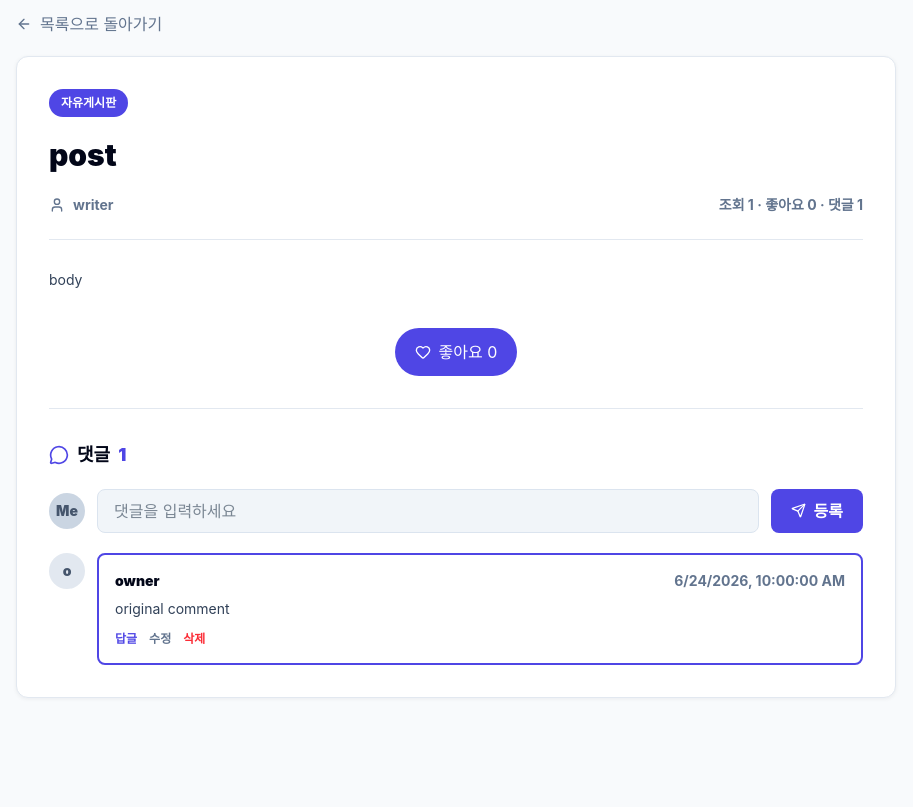
Test case: CommunityDetailPage comments › reloads after deletion and keeps a deleted parent placeholder without actions
The width and height of the screenshot is (913, 807).
What coordinates should you click on to do the following:
click the button with test id "delete-comment-1"
I would click on:
 (194, 638)
Its box is left=183, top=630, right=205, bottom=646.
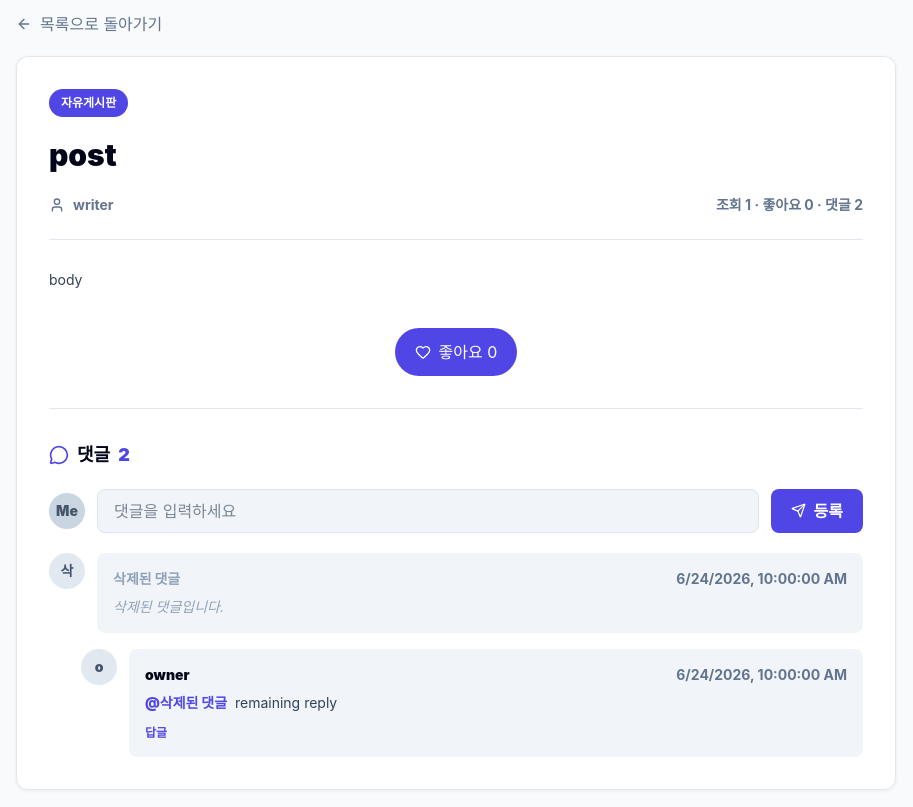
Expected: the element with test id "comment-1" shows "삭제된 댓글입니다.", left=113, top=598, right=224, bottom=614
Expected: the element with test id "comment-2" shows "@삭제된 댓글", left=145, top=694, right=227, bottom=710
